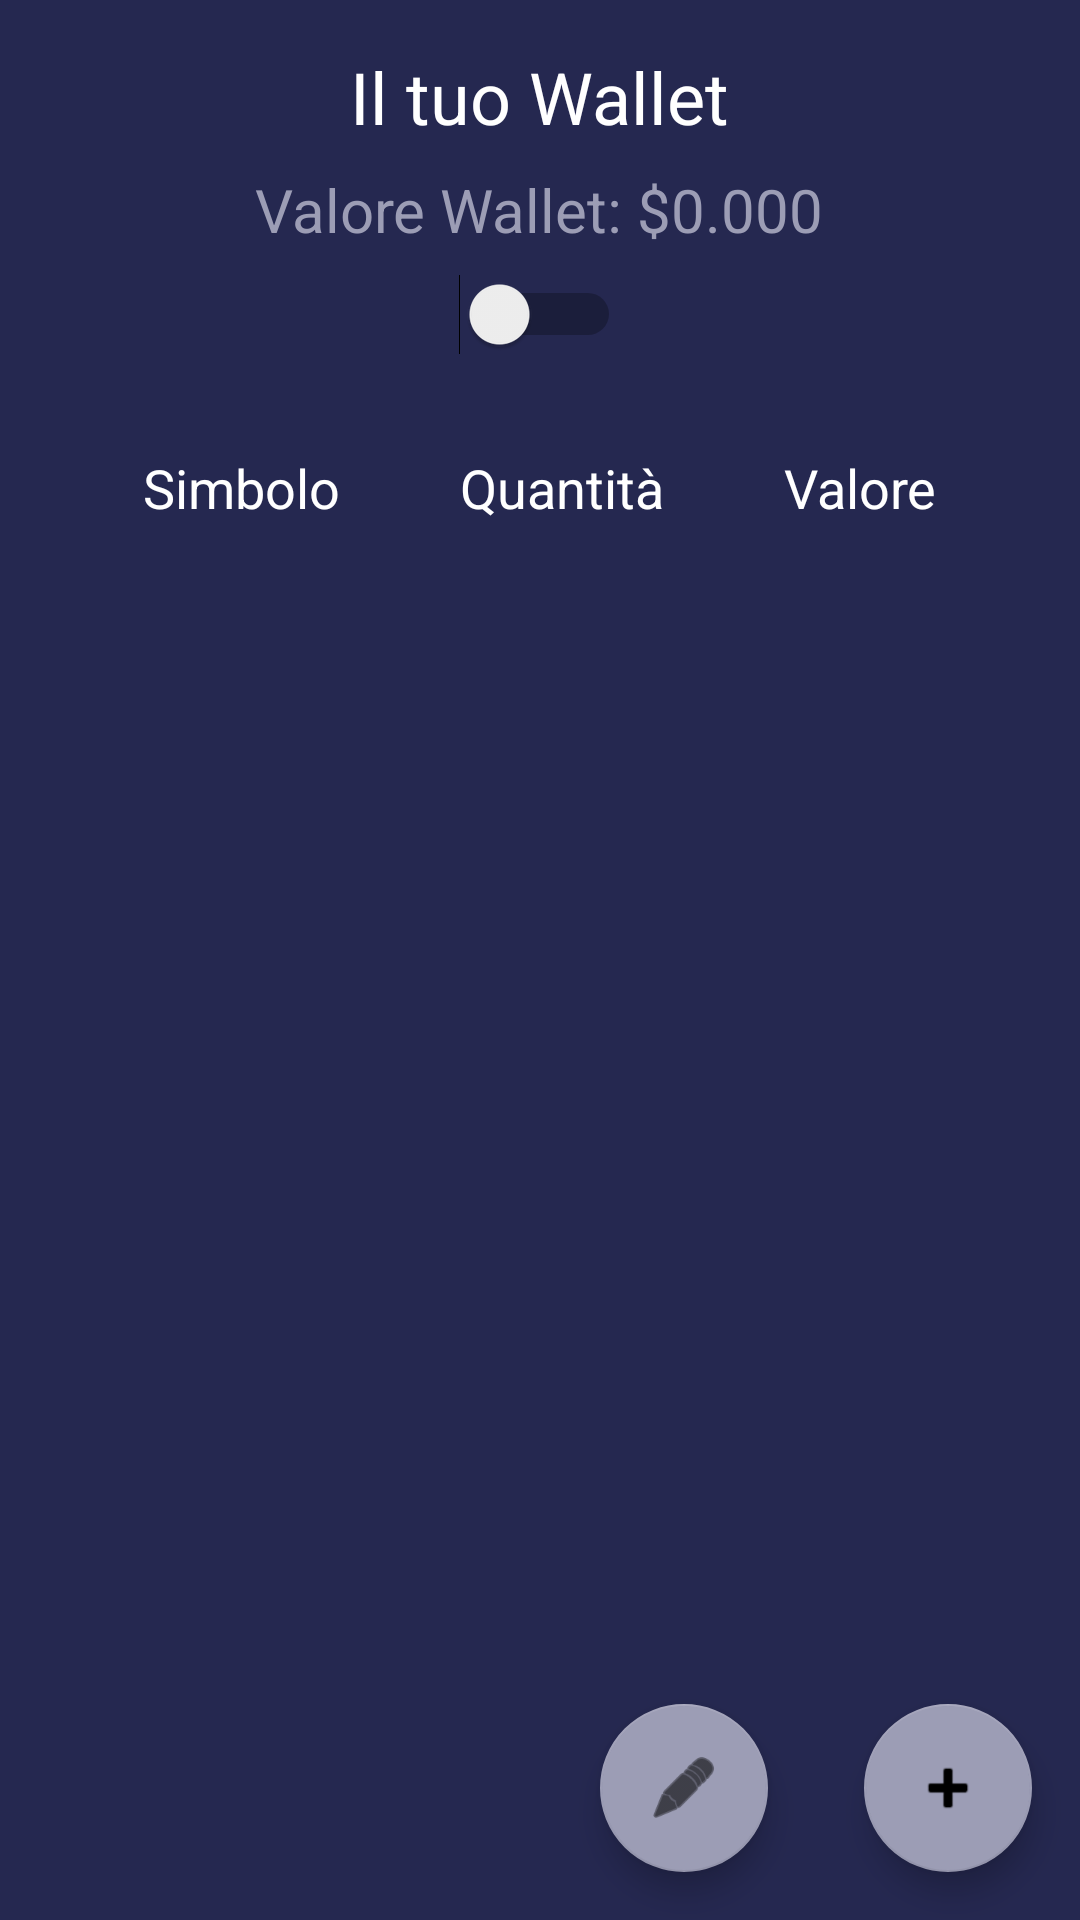

Named icons in this screenshot (1080x1920) and their centers, (x,y):
add: (948,1788)
edit: (684,1788)
